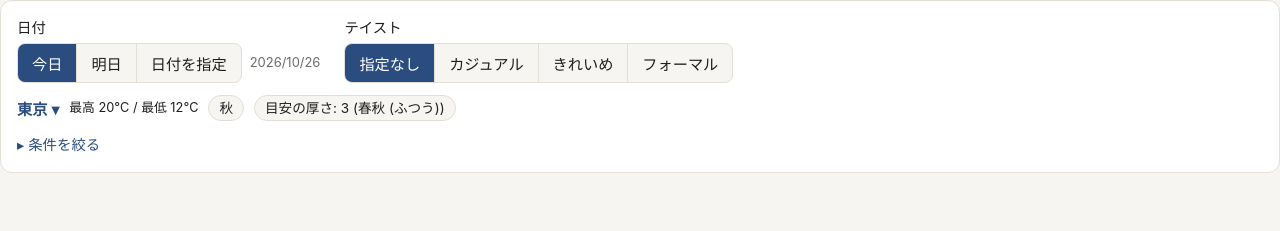
Scenario: two-tier conditions › opens the location choices from the status line
Expected: the text "最高 20℃ / 最低 12℃" is shown, [69,98,198,117]
Click the button with aria-label "地点を変える". click: [38, 108]
box: [17,97,59,119]
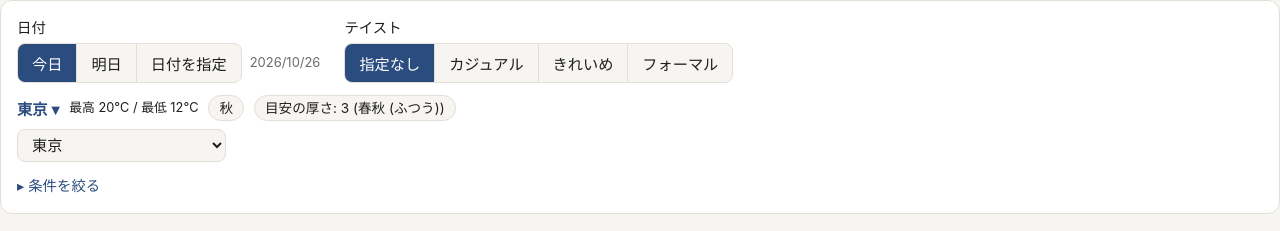
Select "大阪" in the dropdown named "予報の地点". click: [122, 146]
box: [17,129,226,162]
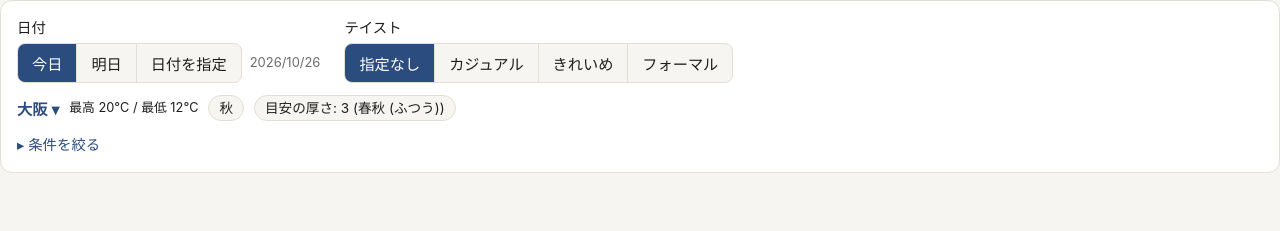
Expected: the button "大阪 ▾" is shown, [17,97,59,119]
